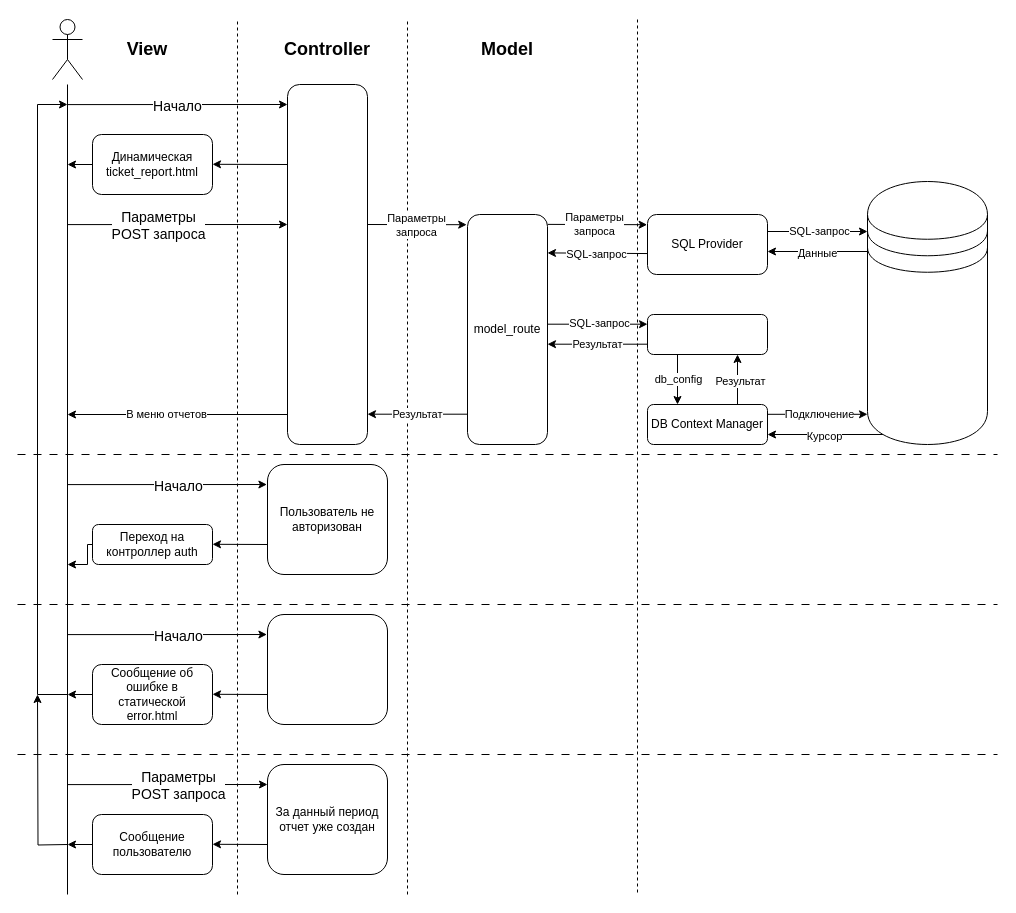
This 1016x913 diagram has some shape labels left out. The box of each missing label's shape, as (x1, y1, x2, y2) in pixels:
route: (286, 84, 368, 444)
select_typed: (646, 314, 768, 354)
База данных: (866, 180, 988, 444)
У пользователя недостаточно прав: (266, 614, 388, 724)
